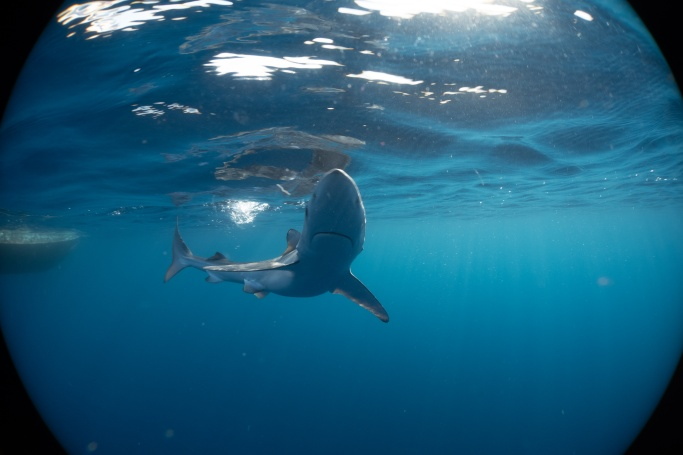Azul: (144, 165, 441, 343)
